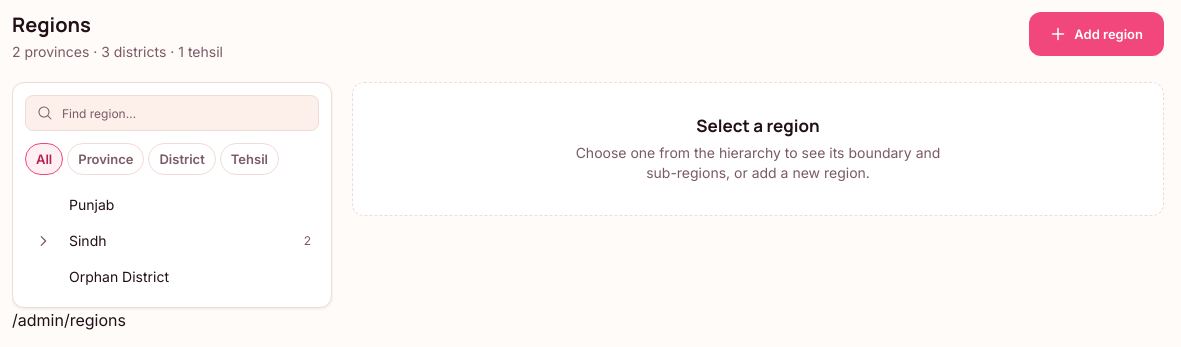
Scenario: RegionsPage — browsing › searches by name into a flat list with each match’s parents, mirrored to the URL, and restores the tree when cleared
Type "sukkur" into the search field named "Search regions" at [172, 113], box [25,95,319,131]
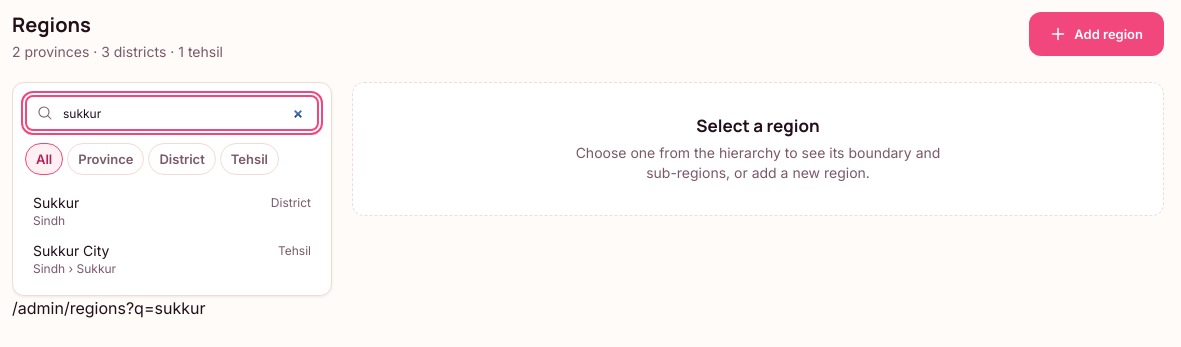
Now the list items read "SukkurSindhDistrict", "Sukkur CitySindh › SukkurTehsil", in this order, box [25,187,319,235]; [25,235,319,283]
Now the text with test id "location" reads "/admin/regions?q=sukkur", box [12,298,205,318]
Clear the search field named "Search regions" at [172, 113], box [25,95,319,131]
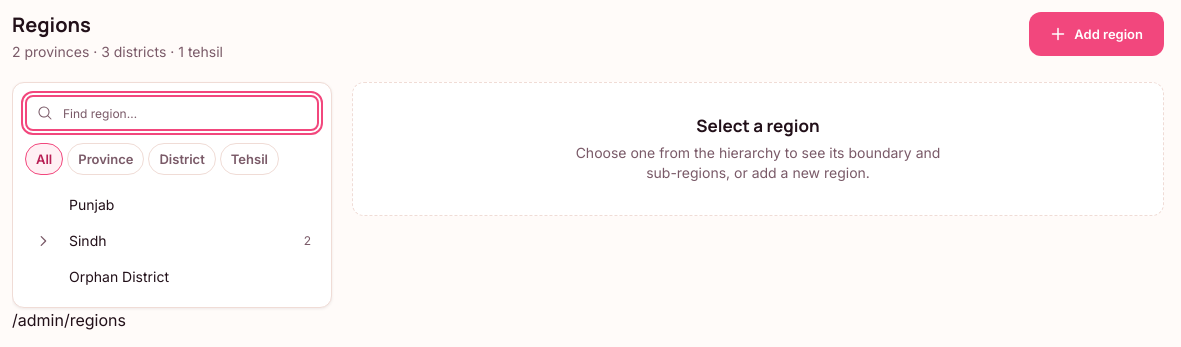
Expected: the list named "Regions" is shown, [25,187,319,295]
Now the text with test id "location" reads "/admin/regions", box [12,310,126,330]
